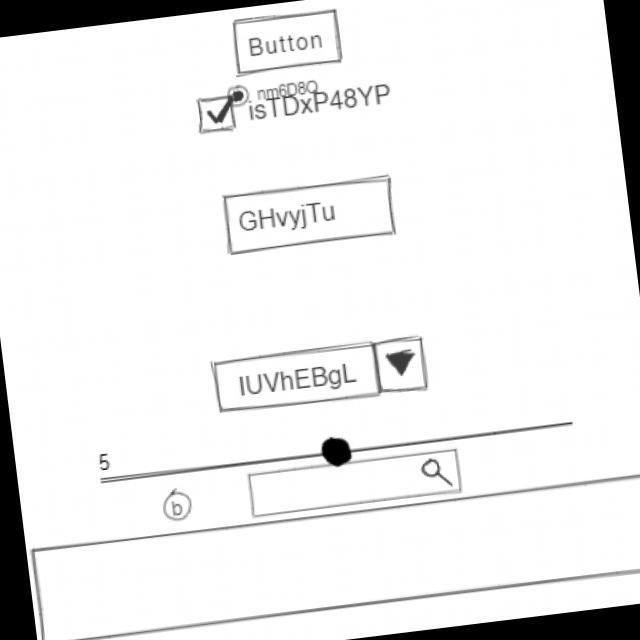button: (229, 4, 349, 79)
checkbox: (194, 74, 397, 139)
container: (27, 467, 640, 640)
icon-button: (161, 488, 196, 525)
input: (220, 173, 404, 260)
radio: (226, 73, 323, 108)
search: (244, 445, 466, 522)
select: (211, 330, 434, 420)
slider: (115, 407, 580, 496)
